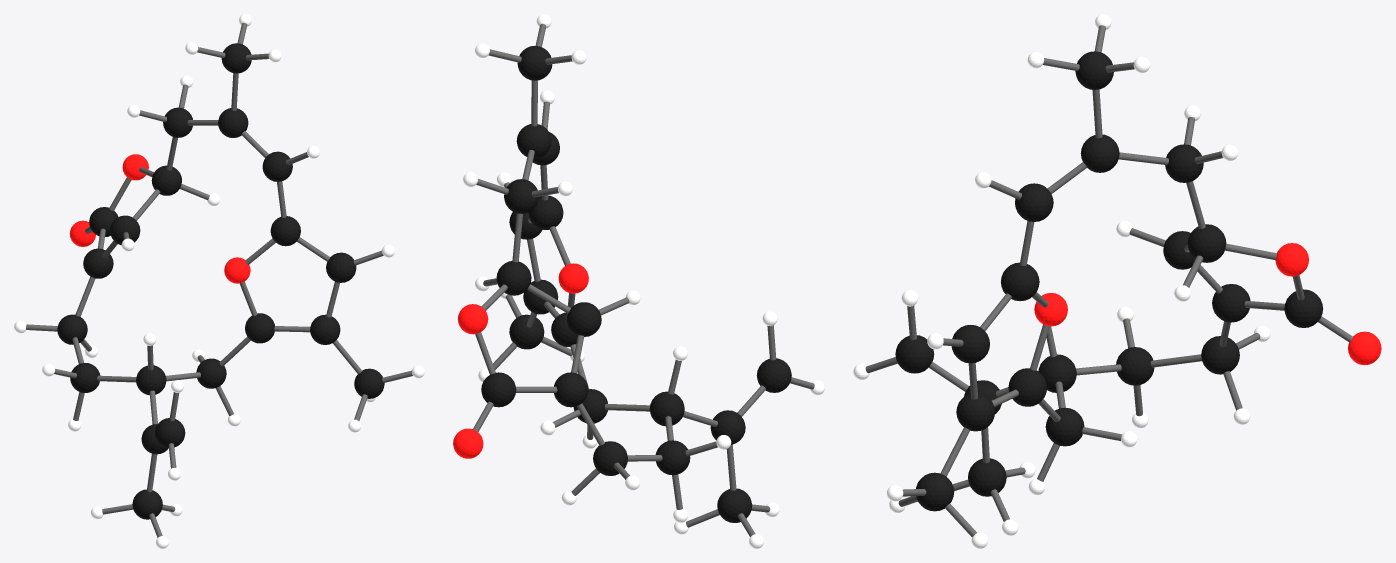
The model's file is molecule.glb.
3 views of the same model, side by side, from view 1: azimuth 30°, elevation 25°; view 2: azimuth 150°, elevation 25°; view 3: azimuth 270°, elevation 25° (orthographic). The views are drawn at different scales.
Parts seen in each view (by area): view 1: geometry_14, geometry_13, geometry_17, geometry_15, geometry_10, geometry_16, geometry_19, geometry_6, geometry_12, geometry_5, geometry_2, geometry_8 (+10 smaller); view 2: geometry_7, geometry_21, geometry_6, geometry_0, geometry_8, geometry_11, geometry_2, geometry_10, geometry_9, geometry_4, geometry_3, geometry_16 (+10 smaller); view 3: geometry_10, geometry_12, geometry_13, geometry_15, geometry_4, geometry_0, geometry_8, geometry_17, geometry_2, geometry_6, geometry_21, geometry_9 (+10 smaller).
Part boxes in pixels (left/top/right/bottom): geometry_14: left=326, top=252, right=356, bottom=282; geometry_13: left=270, top=216, right=300, bottom=246; geometry_17: left=245, top=313, right=274, bottom=343; geometry_15: left=310, top=314, right=340, bottom=344; geometry_10: left=218, top=108, right=248, bottom=137; geometry_16: left=354, top=368, right=384, bottom=398; geometry_19: left=196, top=358, right=226, bottom=388; geometry_6: left=83, top=248, right=113, bottom=278; geometry_12: left=262, top=151, right=292, bottom=181; geometry_5: left=57, top=314, right=87, bottom=344; geometry_2: left=132, top=489, right=162, bottom=519; geometry_8: left=151, top=165, right=181, bottom=195; geometry_7: left=566, top=302, right=601, bottom=336; geometry_21: left=481, top=372, right=516, bottom=407; geometry_6: left=554, top=372, right=588, bottom=407; geometry_0: left=756, top=358, right=791, bottom=392; geometry_8: left=496, top=261, right=531, bottom=295; geometry_11: left=517, top=46, right=552, bottom=80; geometry_2: left=717, top=488, right=752, bottom=522; geometry_10: left=516, top=124, right=551, bottom=158; geometry_9: left=504, top=179, right=538, bottom=213; geometry_4: left=655, top=440, right=690, bottom=475; geometry_3: left=649, top=391, right=684, bottom=426; geometry_16: left=509, top=314, right=544, bottom=349; geometry_10: left=1080, top=134, right=1119, bottom=172; geometry_12: left=1015, top=183, right=1053, bottom=221; geometry_13: left=1001, top=262, right=1039, bottom=301; geometry_15: left=956, top=393, right=994, bottom=431; geometry_4: left=1116, top=347, right=1154, bottom=385; geometry_0: left=895, top=335, right=934, bottom=373; geometry_8: left=1187, top=224, right=1226, bottom=262; geometry_17: left=1008, top=368, right=1047, bottom=406; geometry_2: left=968, top=458, right=1006, bottom=496; geometry_6: left=1212, top=284, right=1250, bottom=322; geometry_21: left=1284, top=289, right=1323, bottom=327; geometry_9: left=1165, top=144, right=1203, bottom=182.
Size of the model in its own units: 0.1801 by 0.257 by 0.2225.
